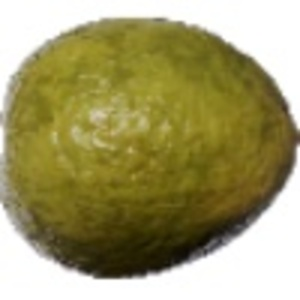goiaba: (5, 15, 294, 275)
